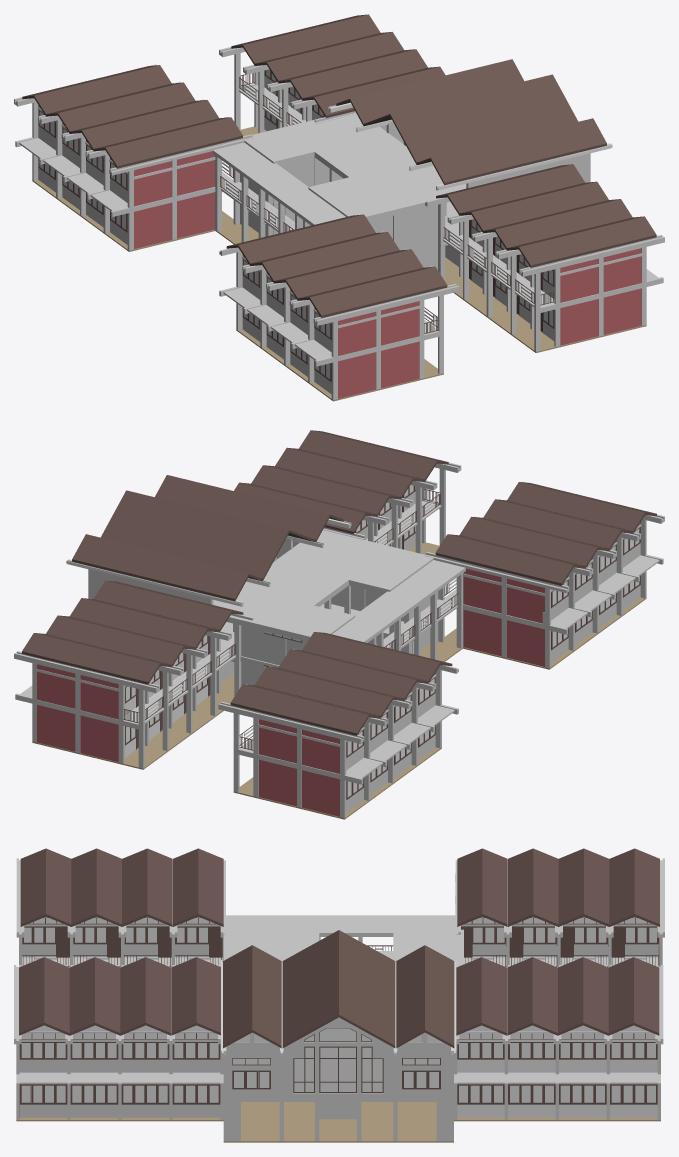
The model's file is Facuty_building.glb.
The picture shows the model from 3 angles, top to bottom: view 1: azimuth 30°, elevation 25°; view 2: azimuth 150°, elevation 25°; view 3: azimuth 270°, elevation 25°; orthographic projection. The views are drawn at different scales.
Parts seen in each view (by area): view 1: ROOF, roof.003, roof.002, roof.001, roof, Cube.015, pilla.002, pilla.003, pilla.004, Cube.018, wall.003, wall.006 (+11 smaller); view 2: ROOF, roof.002, roof.003, roof, roof.001, Cube.015, pilla.001, pilla.004, pilla.003, Cube.018, wall.010, wall.004 (+13 smaller); view 3: ROOF, roof, roof.002, roof.003, roof.001, floor1.002, wall.002, wall.001, wall, pilla.001, pilla.002, window.034 (+40 smaller).
Part boxes in pixels (x1=…): ROOF: x1=336, y1=59, x2=606, y2=185; roof.003: x1=22, y1=65, x2=242, y2=168; roof.002: x1=226, y1=214, x2=447, y2=317; roof.001: x1=436, y1=164, x2=656, y2=267; roof: x1=231, y1=14, x2=445, y2=117; Cube.015: x1=308, y1=133, x2=464, y2=269; pilla.002: x1=425, y1=197, x2=664, y2=351; pilla.003: x1=219, y1=231, x2=459, y2=400; pilla.004: x1=14, y1=64, x2=253, y2=250; Cube.018: x1=212, y1=142, x2=345, y2=242; wall.003: x1=560, y1=248, x2=641, y2=345; wall.006: x1=338, y1=301, x2=419, y2=398; ROOF: x1=72, y1=475, x2=343, y2=601; roof.002: x1=435, y1=482, x2=656, y2=585; roof.003: x1=230, y1=632, x2=452, y2=735; roof: x1=22, y1=580, x2=243, y2=684; roof.001: x1=234, y1=430, x2=448, y2=534; Cube.015: x1=243, y1=530, x2=433, y2=653; pilla.001: x1=14, y1=598, x2=254, y2=768; pilla.004: x1=218, y1=649, x2=458, y2=818; pilla.003: x1=424, y1=481, x2=664, y2=668; Cube.018: x1=332, y1=560, x2=465, y2=659; wall.010: x1=463, y1=568, x2=544, y2=666; wall.004: x1=37, y1=664, x2=118, y2=762; ROOF: x1=223, y1=930, x2=454, y2=1048; roof: x1=456, y1=957, x2=659, y2=1035; roof.002: x1=20, y1=848, x2=223, y2=926; roof.003: x1=457, y1=848, x2=659, y2=926; roof.001: x1=19, y1=957, x2=220, y2=1035; floor1.002: x1=16, y1=1085, x2=660, y2=1142; wall.002: x1=228, y1=1017, x2=449, y2=1101; wall.001: x1=19, y1=1031, x2=220, y2=1117; wall: x1=457, y1=1031, x2=657, y2=1117; pilla.001: x1=454, y1=965, x2=663, y2=1119; pilla.002: x1=14, y1=965, x2=223, y2=1119; window.034: x1=293, y1=1028, x2=383, y2=1092.
Size of the model in its own units: 33.54 by 10.45 by 45.25.
